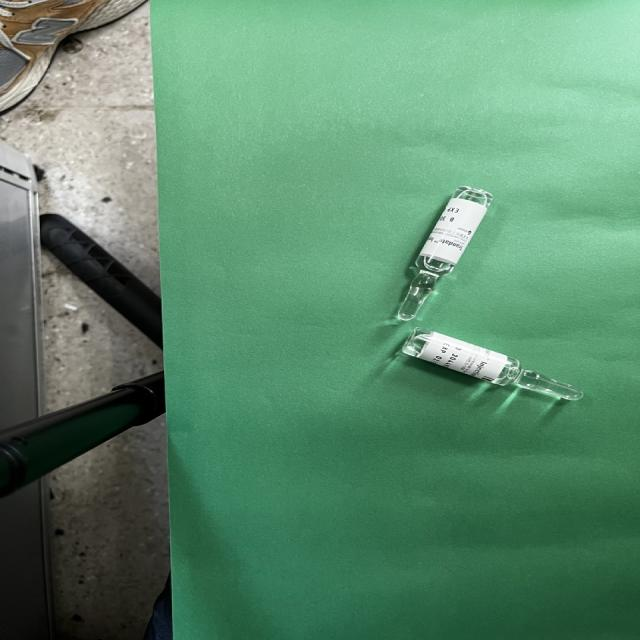Ampoules: (401, 328, 581, 400), (396, 186, 492, 320)
